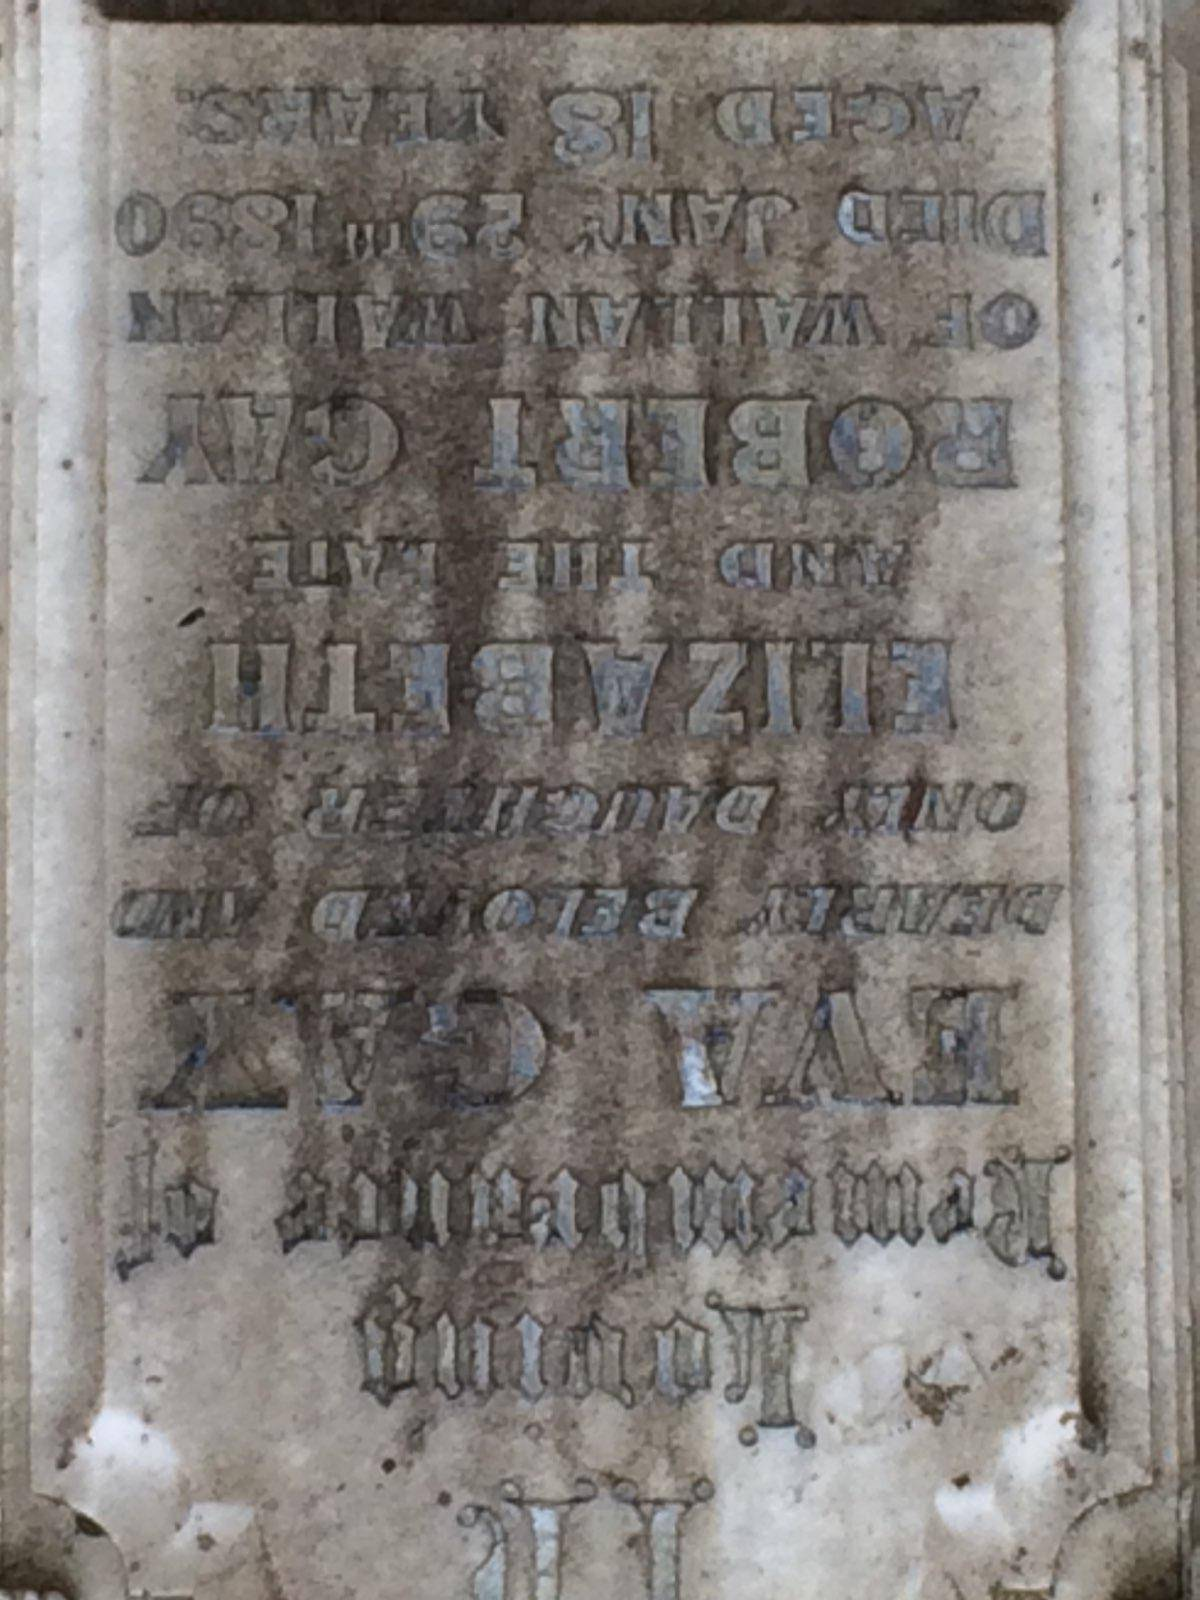upright: (0, 0, 1200, 1600)
